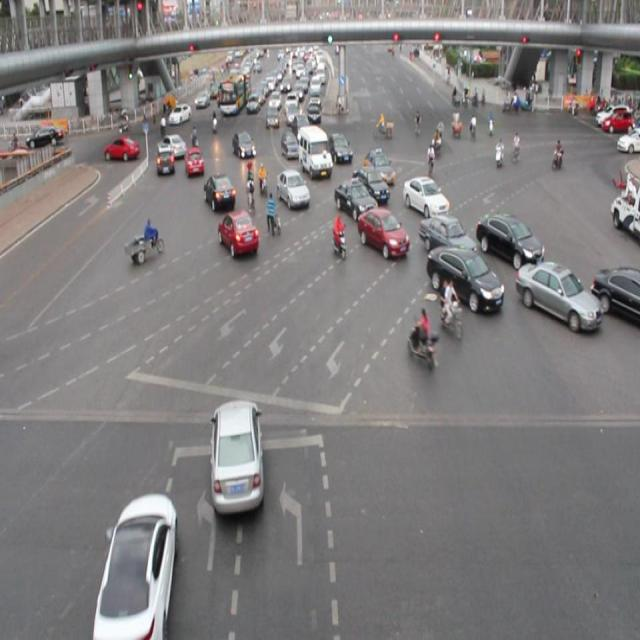car: (95, 489, 176, 640), (207, 400, 264, 514), (512, 262, 598, 332), (426, 243, 502, 316), (477, 208, 542, 268), (355, 207, 408, 261), (591, 264, 640, 319), (418, 208, 475, 254), (401, 172, 447, 218), (218, 208, 259, 258), (333, 176, 376, 217), (276, 167, 309, 210), (353, 164, 386, 202), (363, 148, 395, 187), (204, 174, 234, 212), (327, 129, 353, 164), (105, 137, 140, 162), (154, 141, 177, 177), (183, 144, 205, 180), (232, 130, 256, 162), (279, 128, 299, 160), (161, 132, 185, 158)
truck: (299, 126, 332, 177)
